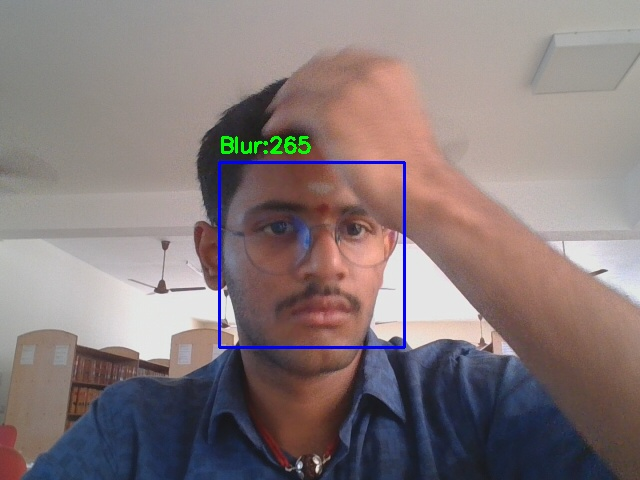real: (219, 162, 404, 347)
